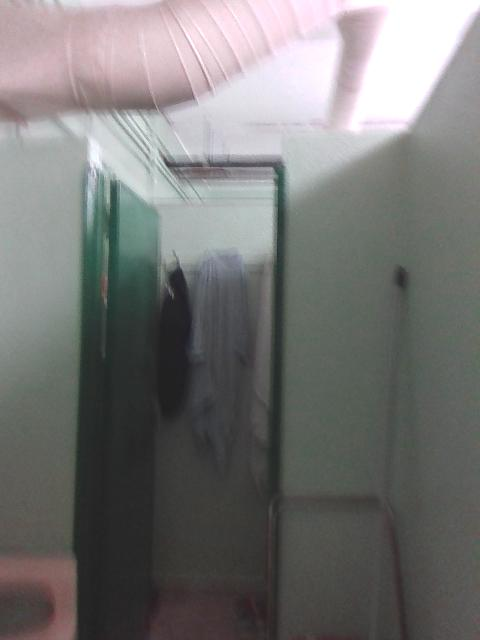open_door: (72, 132, 284, 639)
